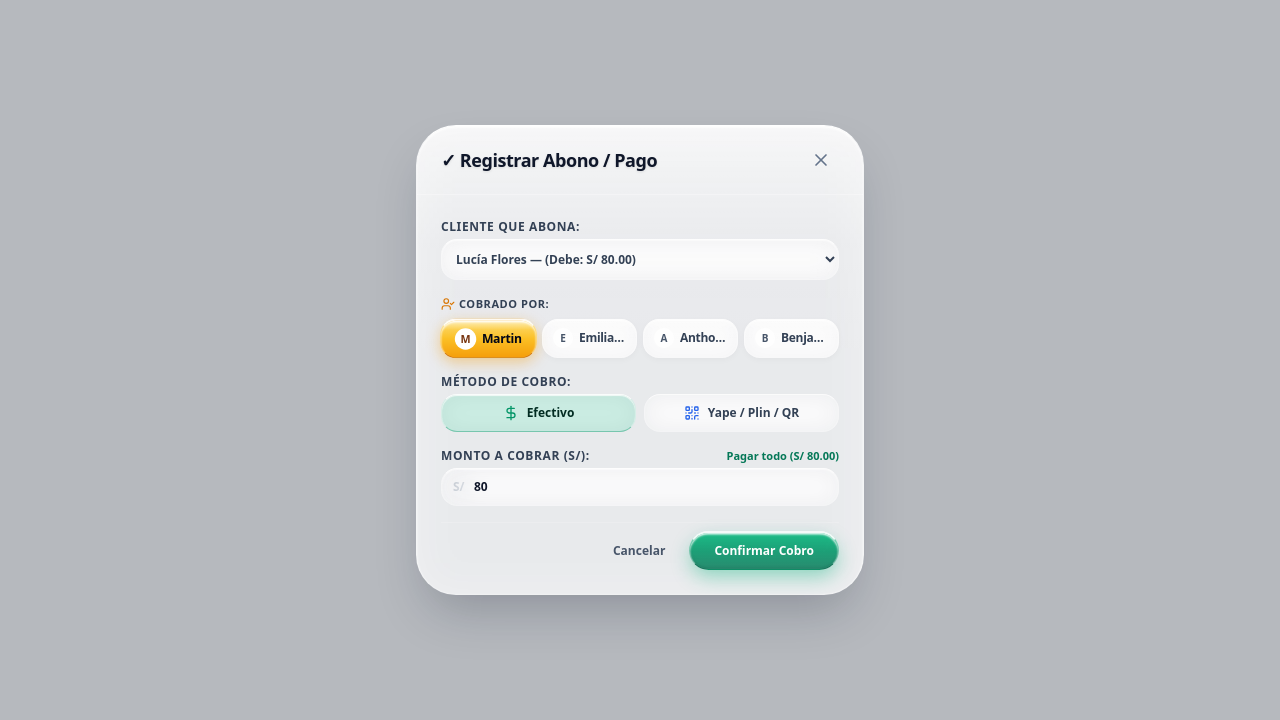
it: QuickPaymentModal - Cashier Selection & Abono Flow › records payment with the selected cashier name and payment method
The width and height of the screenshot is (1280, 720).
Note: Switch to Benjamin
Click the button "B Benjamin" at (792, 338), box [744,318,839,358]
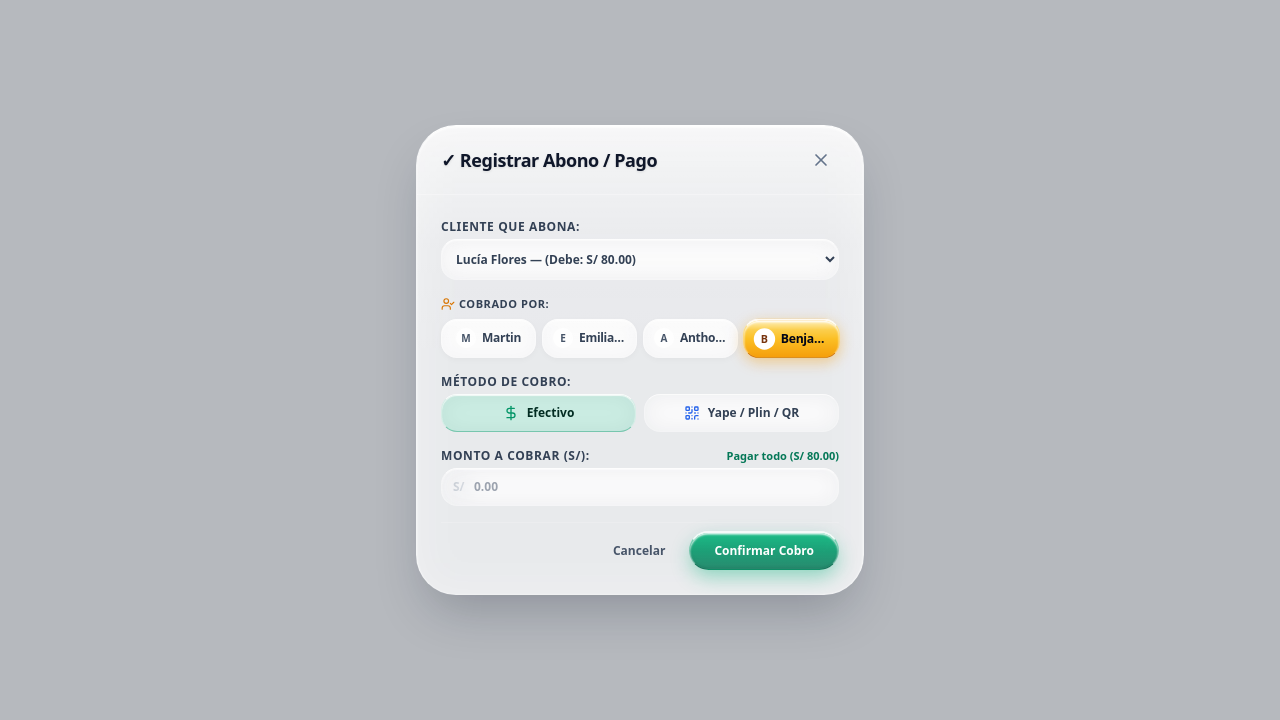
Result: the button "B Benjamin" is pressed at [743,318,840,358]
Note: Select QR method
Click the button "Yape / Plin / QR" at (742, 412), box [644,394,839,432]
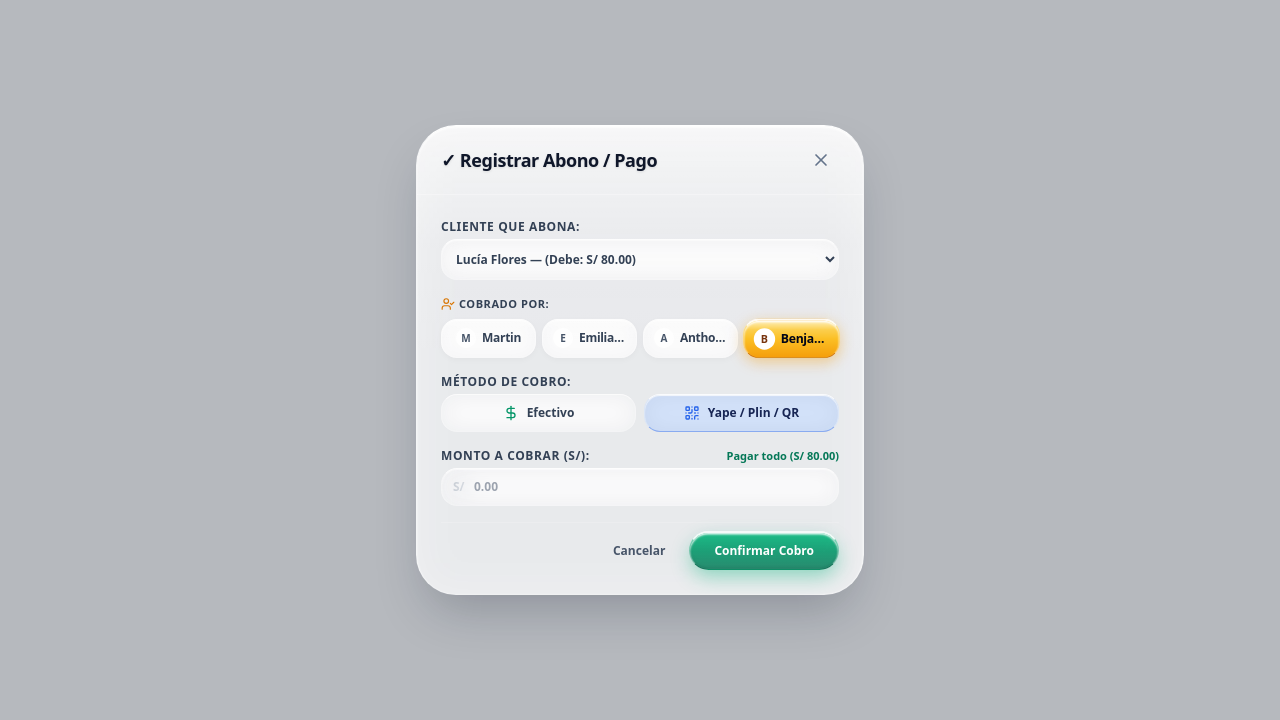
Note: Enter amount
Type "40.00" into the number field with placeholder "0.00" at (640, 487), box [441,468,839,506]
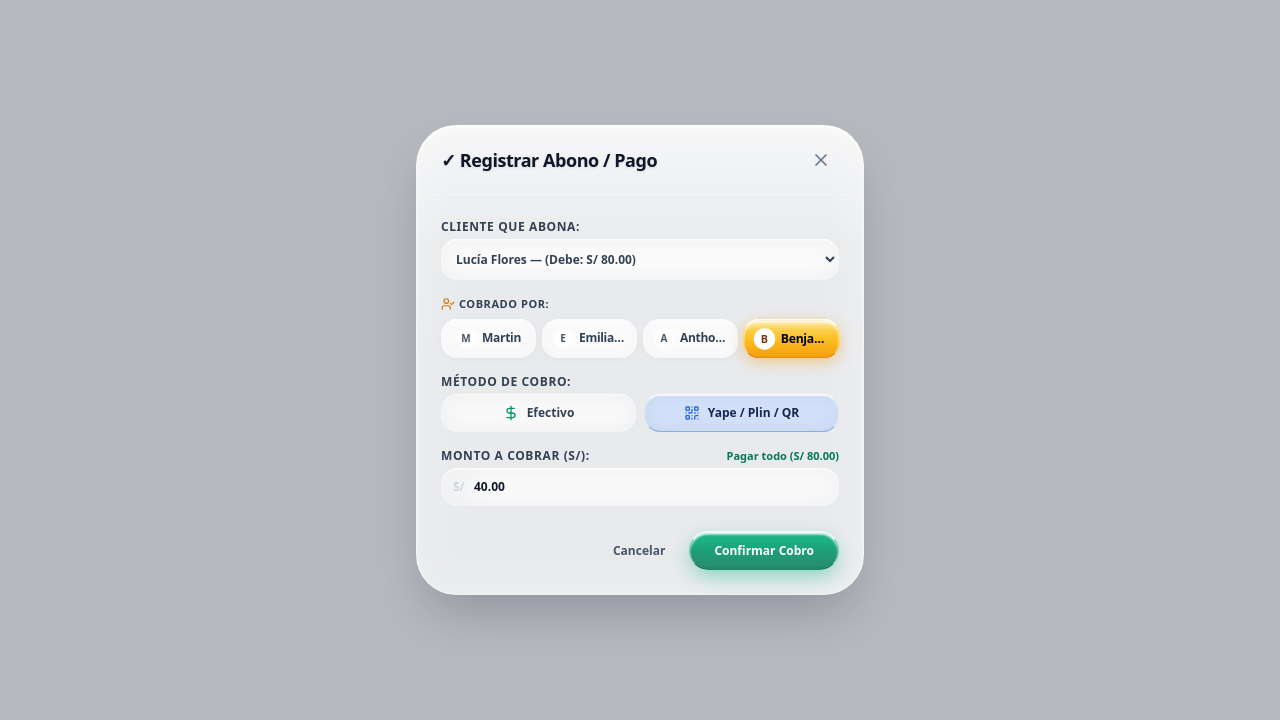
Note: Confirm payment with "Confirmar Cobro"
Click the button "Confirmar Cobro" at (764, 550), box [689,531,839,570]
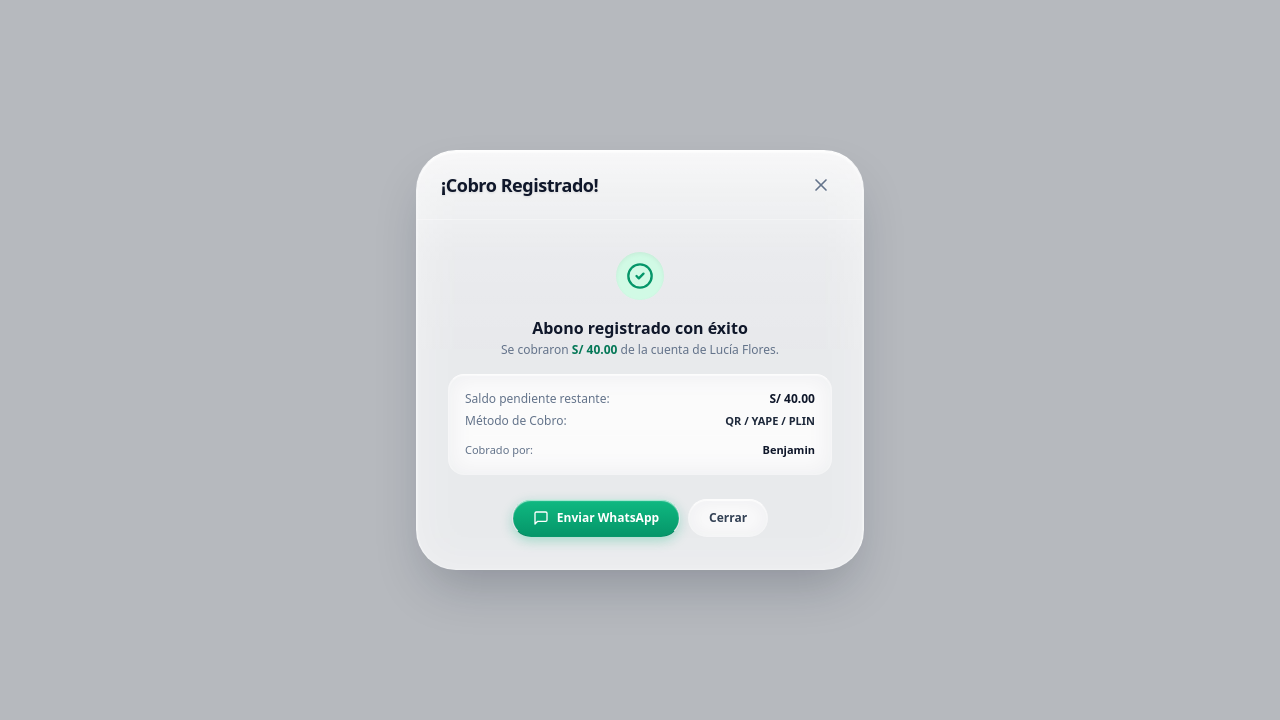
Expected: the text "Benjamin" is shown, [762,442,815,458]
Result: the heading "Abono registrado con éxito" is shown at [532,317,748,339]
